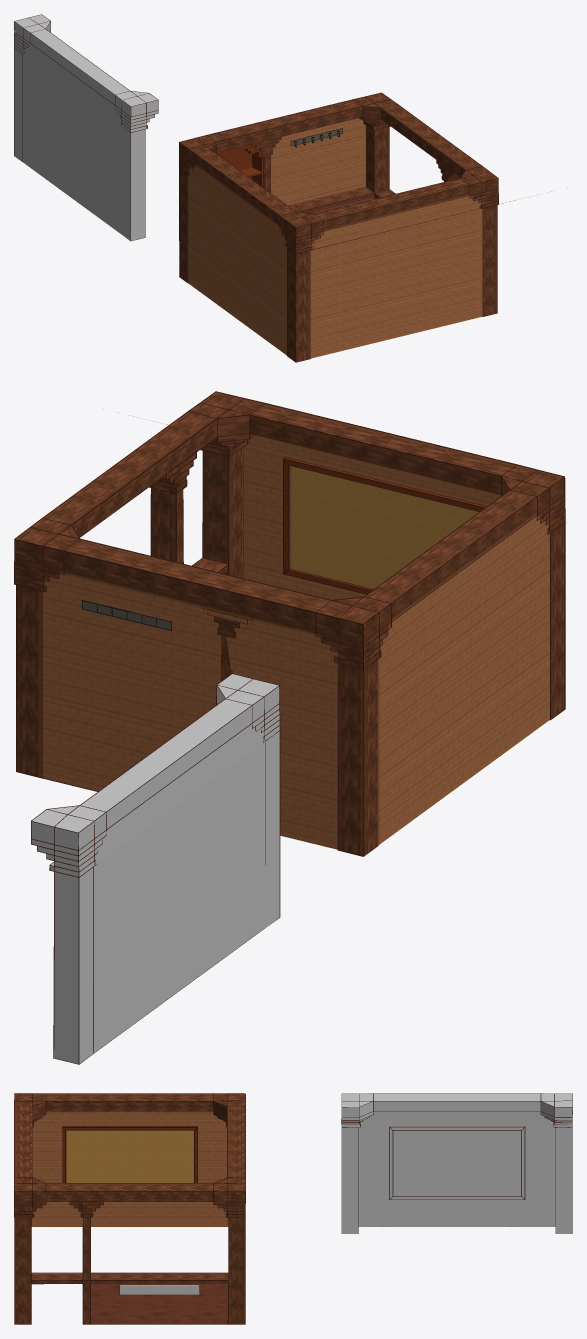
The model's file is ygc_updated_wall.fbx.
The picture shows the model from 3 angles, top to bottom: view 1: azimuth 30°, elevation 25°; view 2: azimuth 150°, elevation 25°; view 3: azimuth 270°, elevation 25°; orthographic projection. The views are drawn at different scales.
Parts seen in each view (by area): view 1: YGC_all, Wall_extra, YGC_wire_update, Wall_extra.wire; view 2: YGC_all, Wall_extra, YGC_wire_update, Wall_extra.wire; view 3: YGC_all, Wall_extra, Board_extra, Board_back, YGC_wire_update, Wall_extra.wire, drawer, Board_back.001.
Boxes of the visible parts, x1=… form: YGC_all: x1=179, y1=93, x2=498, y2=361; Wall_extra: x1=14, y1=14, x2=158, y2=240; YGC_wire_update: x1=179, y1=92, x2=528, y2=362; Wall_extra.wire: x1=14, y1=14, x2=158, y2=241; YGC_all: x1=15, y1=392, x2=564, y2=855; Wall_extra: x1=31, y1=674, x2=279, y2=1063; YGC_wire_update: x1=14, y1=391, x2=565, y2=856; Wall_extra.wire: x1=31, y1=673, x2=280, y2=1064; YGC_all: x1=14, y1=1093, x2=245, y2=1324; Wall_extra: x1=342, y1=1093, x2=572, y2=1233; Board_extra: x1=390, y1=1126, x2=524, y2=1199; Board_back: x1=62, y1=1126, x2=197, y2=1182; YGC_wire_update: x1=14, y1=1093, x2=245, y2=1324; Wall_extra.wire: x1=341, y1=1093, x2=572, y2=1233; drawer: x1=119, y1=1285, x2=199, y2=1294; Board_back.001: x1=62, y1=1126, x2=197, y2=1182.
Bounding box in the file's own units: 2574 × 1184 × 4468.
